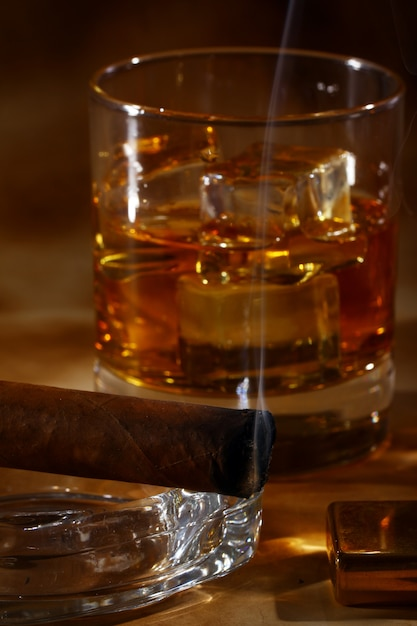alcohol: (90, 51, 405, 473)
cigarette: (0, 377, 275, 495)
